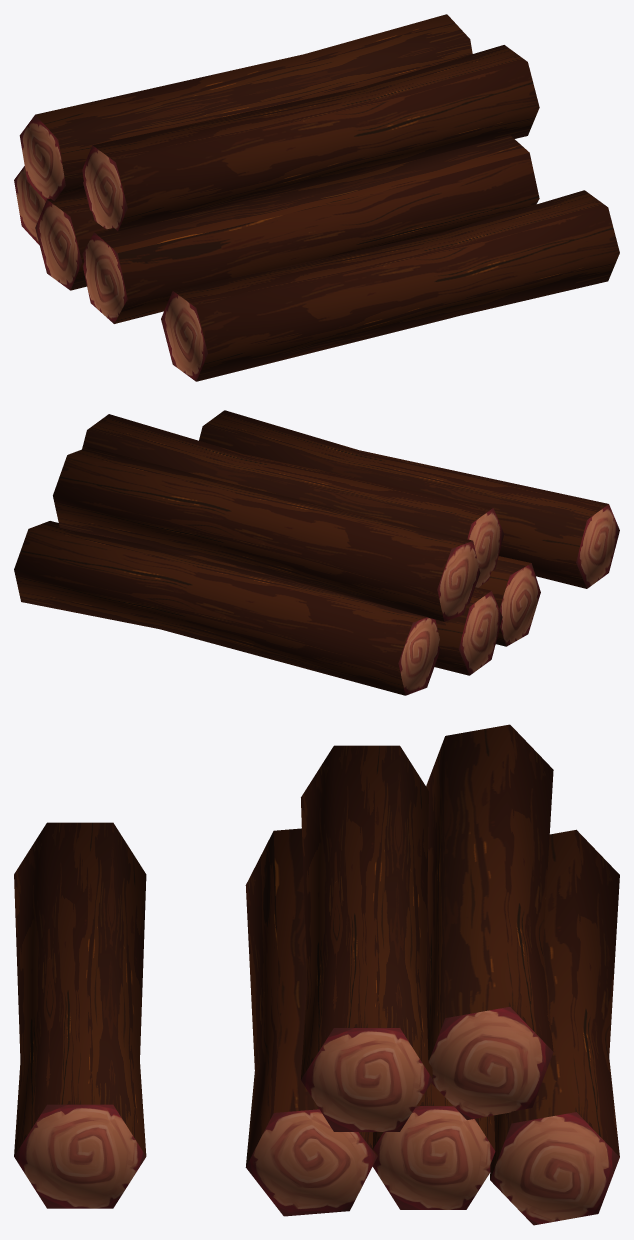
Rendered from pile-de-bois-4.glb.
3 renders of one model, top to bottom at view 1: azimuth 30°, elevation 25°; view 2: azimuth 150°, elevation 25°; view 3: azimuth 270°, elevation 25°, orthographic. The views are drawn at different scales.
Parts seen in each view (by area): view 1: SM_PROP_treetrunk_02; view 2: SM_PROP_treetrunk_02; view 3: SM_PROP_treetrunk_02.
Part boxes in pixels (<box>): SM_PROP_treetrunk_02: <box>14,14,619,381</box>; SM_PROP_treetrunk_02: <box>14,410,619,695</box>; SM_PROP_treetrunk_02: <box>14,724,619,1225</box>.
Bounding box in the file's own units: 4.84 × 1.6 × 4.17.
Materials: 2 (2 with a texture image).
